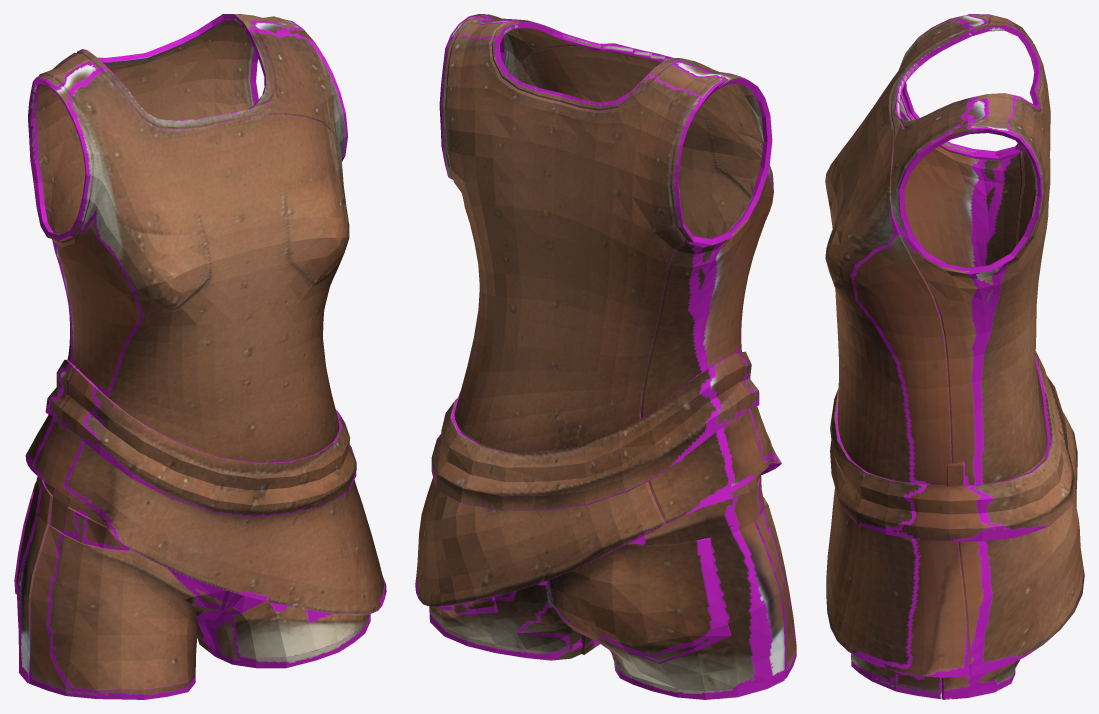
The picture shows the model from 3 angles, left to right: view 1: azimuth 30°, elevation 25°; view 2: azimuth 150°, elevation 25°; view 3: azimuth 270°, elevation 25°; orthographic projection. The views are drawn at different scales.
Bounding box in the file's own units: 0.6269 × 1.05 × 0.4262.
1 material, 1 textured.
